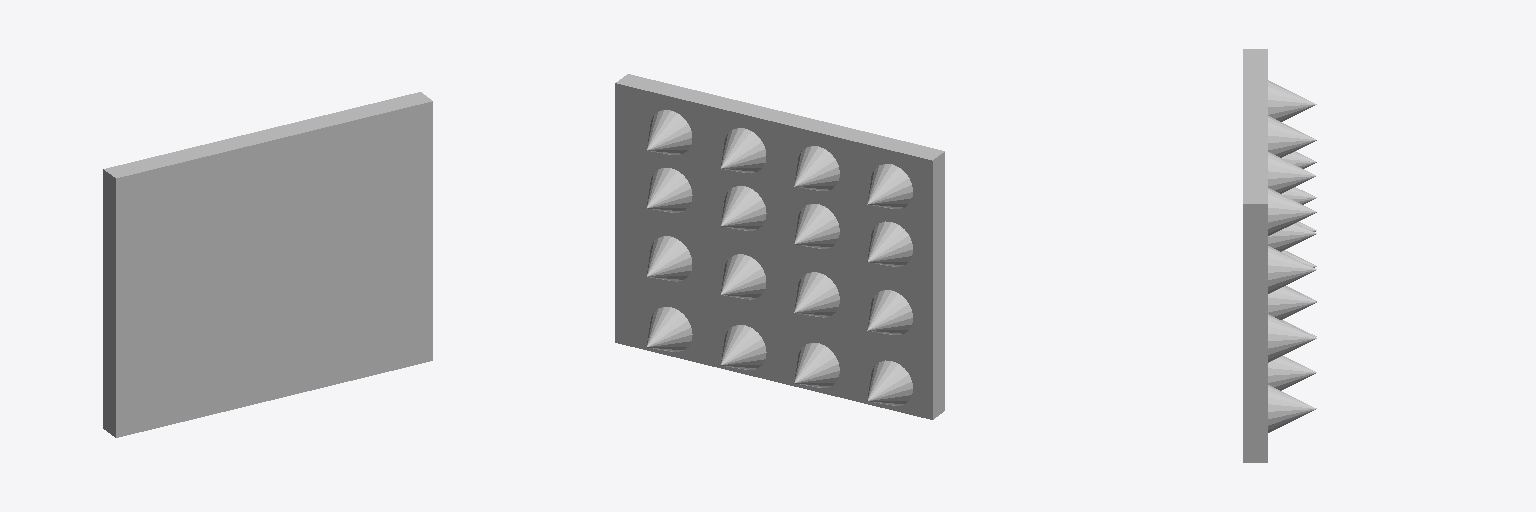
Rendered from LeftClamp.obj.
3 views of the same model, side by side, from view 1: azimuth 30°, elevation 25°; view 2: azimuth 150°, elevation 25°; view 3: azimuth 270°, elevation 25° (orthographic).
Parts seen in each view (by area): view 1: pCube41; view 2: pCube41, pCone12, pCone11, pCone6, pCone1, pCone18, pCone13, pCone4, pCone3, pCone2, pCone9, pCone8 (+5 smaller); view 3: pCube41, pCone20, pCone8, pCone12, pCone1, pCone18, pCone19, pCone13, pCone2, pCone7, pCone11.
Boxes of the visible parts, x1=… form: pCube41: x1=103, y1=92, x2=432, y2=437; pCube41: x1=615, y1=74, x2=944, y2=419; pCone12: x1=647, y1=168, x2=692, y2=212; pCone11: x1=721, y1=186, x2=766, y2=230; pCone6: x1=794, y1=272, x2=839, y2=317; pCone1: x1=647, y1=307, x2=692, y2=351; pCone18: x1=794, y1=146, x2=839, y2=190; pCone13: x1=867, y1=164, x2=912, y2=208; pCone4: x1=867, y1=360, x2=912, y2=405; pCone3: x1=794, y1=343, x2=839, y2=387; pCone2: x1=721, y1=325, x2=766, y2=369; pCone9: x1=867, y1=221, x2=912, y2=266; pCone8: x1=647, y1=236, x2=691, y2=281; pCube41: x1=1243, y1=49, x2=1267, y2=462; pCone20: x1=1268, y1=188, x2=1316, y2=235; pCone8: x1=1268, y1=314, x2=1316, y2=362; pCone12: x1=1268, y1=246, x2=1316, y2=293; pCone1: x1=1268, y1=385, x2=1316, y2=432; pCone18: x1=1268, y1=116, x2=1316, y2=157; pCone19: x1=1268, y1=152, x2=1315, y2=193; pCone13: x1=1268, y1=80, x2=1316, y2=121; pCone2: x1=1268, y1=356, x2=1316, y2=390; pCone7: x1=1268, y1=286, x2=1316, y2=319; pCone11: x1=1268, y1=223, x2=1316, y2=251.
Size of the model in its own units: 14.35 by 11.22 by 2.93.